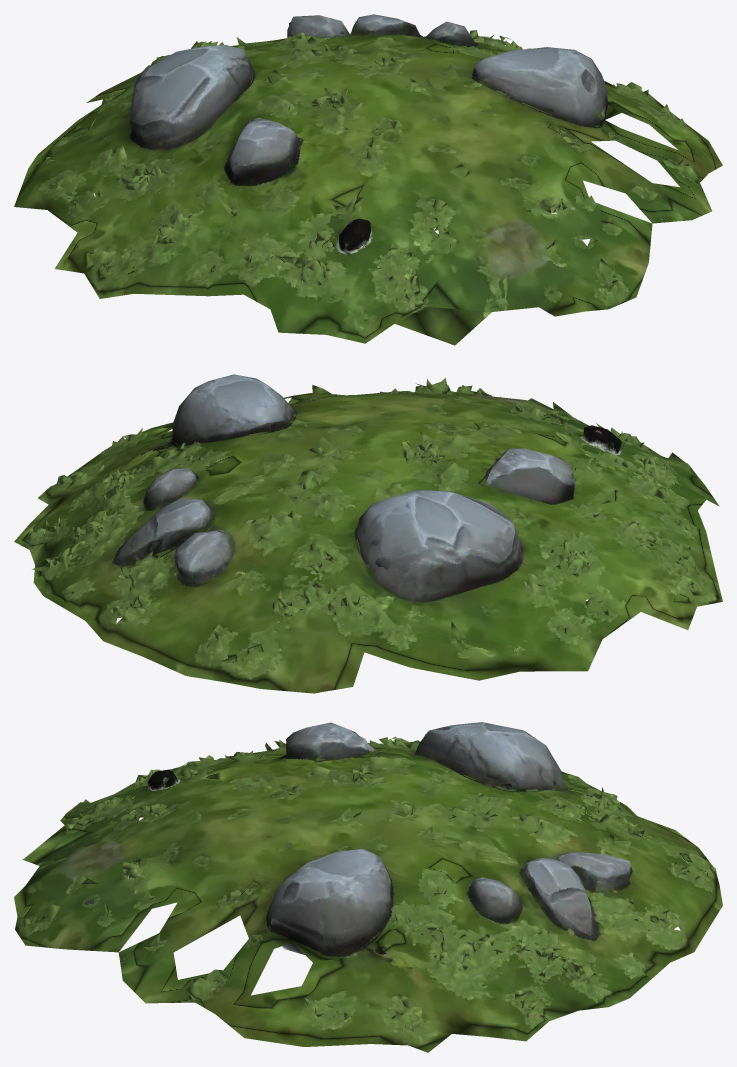
File: hill-1.glb
The picture shows the model from 3 angles, top to bottom: view 1: azimuth 30°, elevation 25°; view 2: azimuth 150°, elevation 25°; view 3: azimuth 270°, elevation 25°; orthographic projection.
Parts seen in each view (by area): view 1: geometry_0; view 2: geometry_0; view 3: geometry_0.
Boxes of the visible parts, x1=… form: geometry_0: x1=14, y1=14, x2=722, y2=345; geometry_0: x1=14, y1=374, x2=722, y2=693; geometry_0: x1=14, y1=722, x2=722, y2=1052.
Bounding box in the file's own units: 0.9666 × 0.1896 × 0.9617.
Materials: 1 (1 with a texture image).
